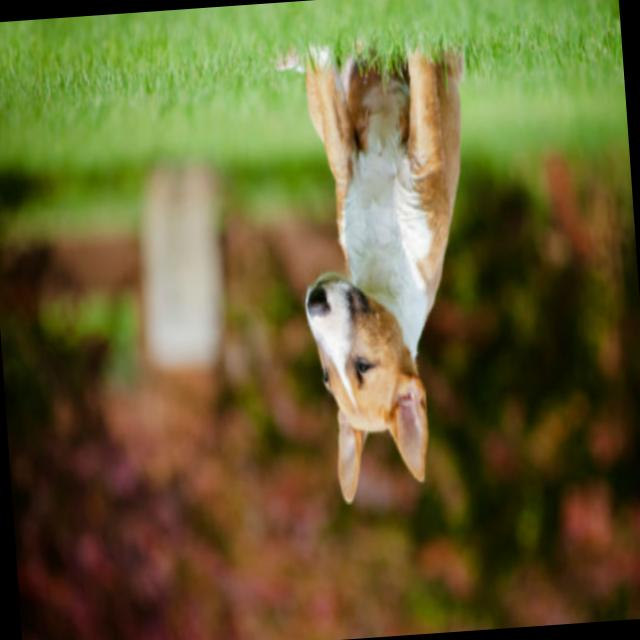dogs: (279, 31, 496, 508)
